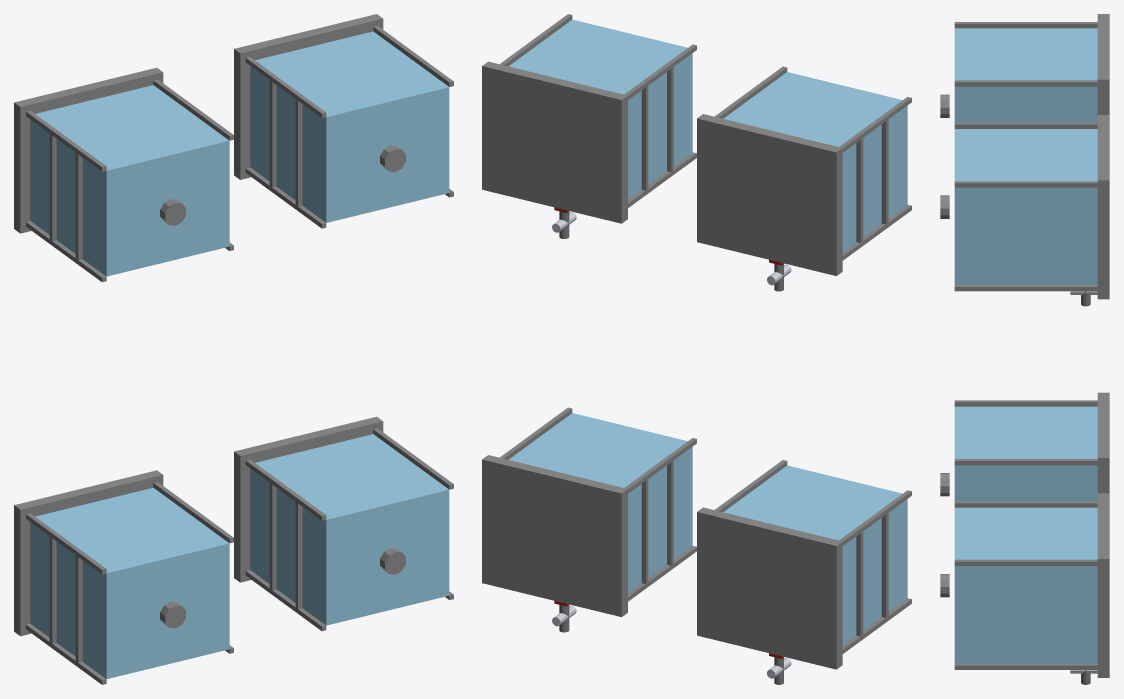
The model's file is EQ_04_IBC.obj.
The picture shows the model from 3 angles, left to right: view 1: azimuth 30°, elevation 25°; view 2: azimuth 150°, elevation 25°; view 3: azimuth 270°, elevation 25°; orthographic projection. The views are drawn at different scales.
Parts seen in each view (by area): view 1: IBC_IBC03_Body, IBC_IBC04_Body, IBC_IBC02_Body, IBC_IBC01_Body, IBC_IBC03_PalletBase, IBC_IBC02_PalletBase, IBC_IBC04_PalletBase, IBC_IBC01_PalletBase, IBC_IBC01_FrameH_Y_49, IBC_IBC01_FrameH_Y_90, IBC_IBC04_FrameH_Y_49, IBC_IBC02_FrameH_Y_49 (+16 smaller); view 2: IBC_IBC04_PalletBase, IBC_IBC01_PalletBase, IBC_IBC02_PalletBase, IBC_IBC03_PalletBase, IBC_IBC01_Body, IBC_IBC03_Body, IBC_IBC04_Body, IBC_IBC02_Body, IBC_IBC04_FrameH_Y_49, IBC_IBC01_FrameH_Y_49, IBC_IBC03_FrameH_Y_49, IBC_IBC03_FrameH_Y_90 (+8 smaller); view 3: IBC_IBC02_Body, IBC_IBC04_Body, IBC_IBC01_Body, IBC_IBC03_Body, IBC_IBC02_PalletBase, IBC_IBC04_PalletBase, IBC_IBC01_PalletBase, IBC_IBC03_PalletBase, IBC_IBC01_Frame_V_114_124, IBC_IBC03_Frame_V_125_159, IBC_IBC04_Frame_V_145_159, IBC_IBC01_Frame_V_125_124 (+6 smaller).
Part boxes in pixels (x1=…): IBC_IBC03_Body: x1=30, y1=85, x2=229, y2=276; IBC_IBC04_Body: x1=250, y1=31, x2=449, y2=222; IBC_IBC02_Body: x1=250, y1=434, x2=449, y2=625; IBC_IBC01_Body: x1=30, y1=487, x2=229, y2=679; IBC_IBC03_PalletBase: x1=14, y1=67, x2=163, y2=233; IBC_IBC02_PalletBase: x1=234, y1=416, x2=383, y2=582; IBC_IBC04_PalletBase: x1=234, y1=14, x2=383, y2=179; IBC_IBC01_PalletBase: x1=14, y1=470, x2=163, y2=636; IBC_IBC01_FrameH_Y_49: x1=49, y1=530, x2=56, y2=647; IBC_IBC01_FrameH_Y_90: x1=75, y1=549, x2=82, y2=666; IBC_IBC04_FrameH_Y_49: x1=269, y1=74, x2=276, y2=191; IBC_IBC02_FrameH_Y_49: x1=269, y1=477, x2=276, y2=590; IBC_IBC04_PalletBase: x1=482, y1=61, x2=627, y2=223; IBC_IBC01_PalletBase: x1=697, y1=507, x2=842, y2=669; IBC_IBC02_PalletBase: x1=482, y1=455, x2=627, y2=617; IBC_IBC03_PalletBase: x1=697, y1=114, x2=842, y2=275; IBC_IBC01_Body: x1=723, y1=465, x2=907, y2=645; IBC_IBC03_Body: x1=723, y1=72, x2=907, y2=251; IBC_IBC04_Body: x1=508, y1=19, x2=692, y2=199; IBC_IBC02_Body: x1=508, y1=413, x2=692, y2=592; IBC_IBC04_FrameH_Y_49: x1=641, y1=80, x2=648, y2=193; IBC_IBC01_FrameH_Y_49: x1=856, y1=528, x2=863, y2=636; IBC_IBC03_FrameH_Y_49: x1=856, y1=133, x2=863, y2=246; IBC_IBC03_FrameH_Y_90: x1=881, y1=114, x2=888, y2=224; IBC_IBC02_Body: x1=954, y1=507, x2=1097, y2=663; IBC_IBC04_Body: x1=954, y1=129, x2=1097, y2=284; IBC_IBC01_Body: x1=954, y1=406, x2=1097, y2=501; IBC_IBC03_Body: x1=954, y1=28, x2=1097, y2=122; IBC_IBC02_PalletBase: x1=1097, y1=493, x2=1109, y2=677; IBC_IBC04_PalletBase: x1=1097, y1=115, x2=1109, y2=299; IBC_IBC01_PalletBase: x1=1097, y1=392, x2=1109, y2=493; IBC_IBC03_PalletBase: x1=1097, y1=14, x2=1109, y2=114; IBC_IBC01_Frame_V_114_124: x1=954, y1=400, x2=1097, y2=406; IBC_IBC03_Frame_V_125_159: x1=954, y1=80, x2=1097, y2=86; IBC_IBC04_Frame_V_145_159: x1=954, y1=181, x2=1097, y2=187; IBC_IBC01_Frame_V_125_124: x1=954, y1=459, x2=1097, y2=465.
Size of the model in its own units: 3.3 by 4.95 by 1.42.
